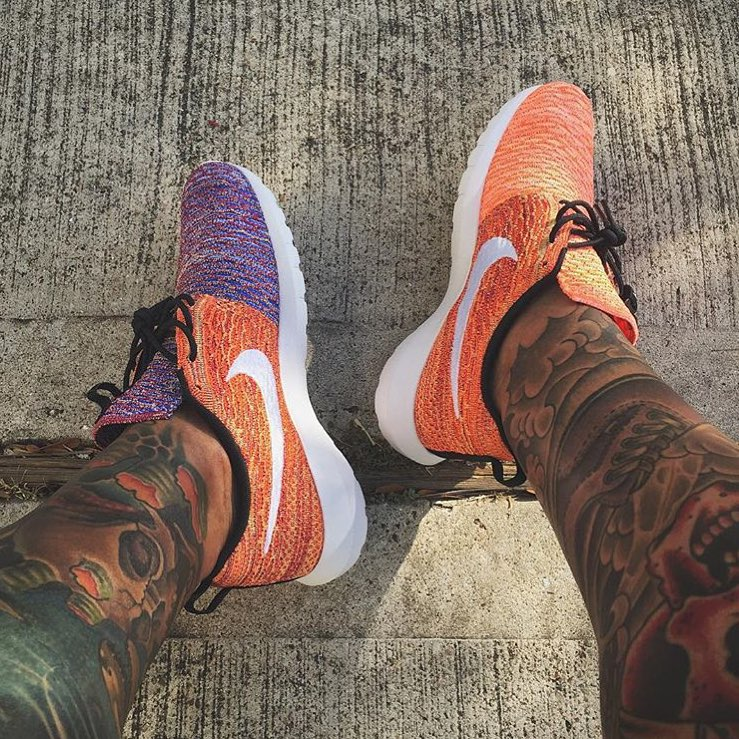sneaker: (82, 141, 387, 610), (349, 66, 673, 489)
